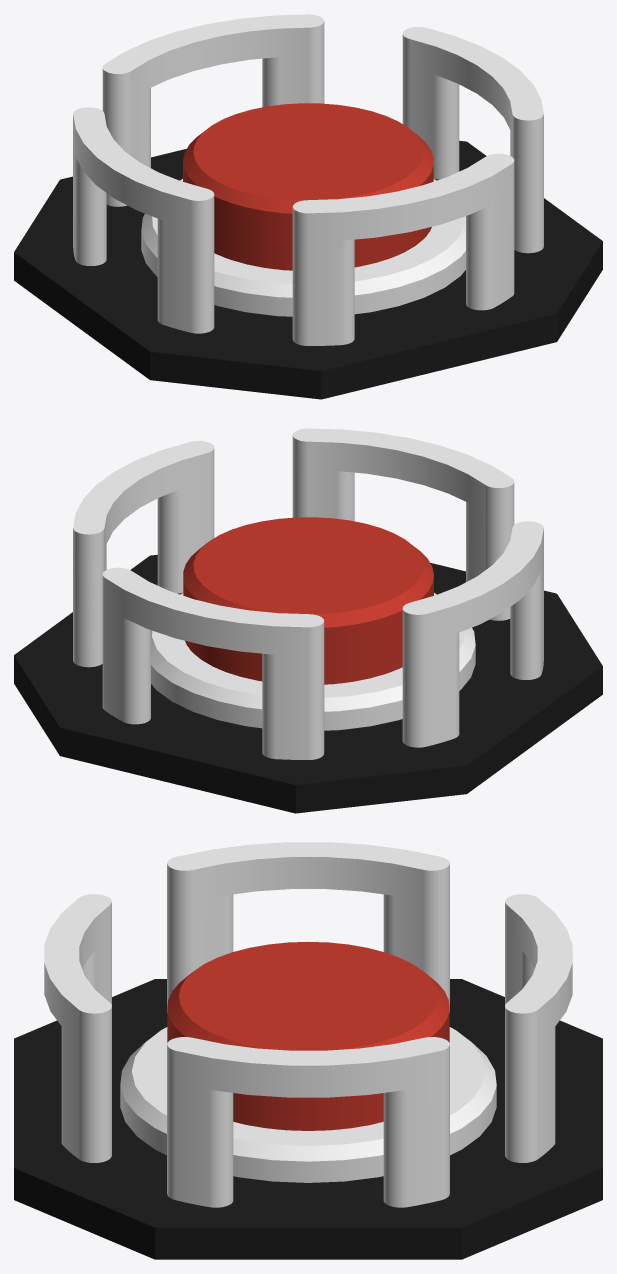
The model's file is button-5-ns.obj.
3 renders of one model, top to bottom at view 1: azimuth 30°, elevation 25°; view 2: azimuth 150°, elevation 25°; view 3: azimuth 270°, elevation 25°, orthographic. The views are drawn at different scales.
Visible parts, largest first — view 1: Body1, Body2; view 2: Body1, Body2; view 3: Body1, Body2.
Part boxes in pixels (x1,y1,x2,y2): Body1: (14,14,602,399); Body2: (183,103,433,270); Body1: (14,428,602,813); Body2: (183,517,433,684); Body1: (14,842,602,1259); Body2: (167,941,449,1130).
Bounding box in the file's own units: 5 × 1.7 × 5.
